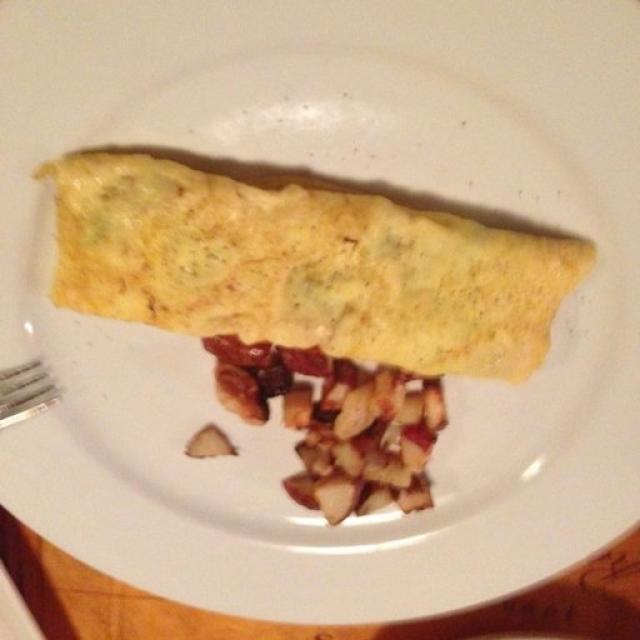telur_ayam_dadar: (34, 150, 598, 388)
